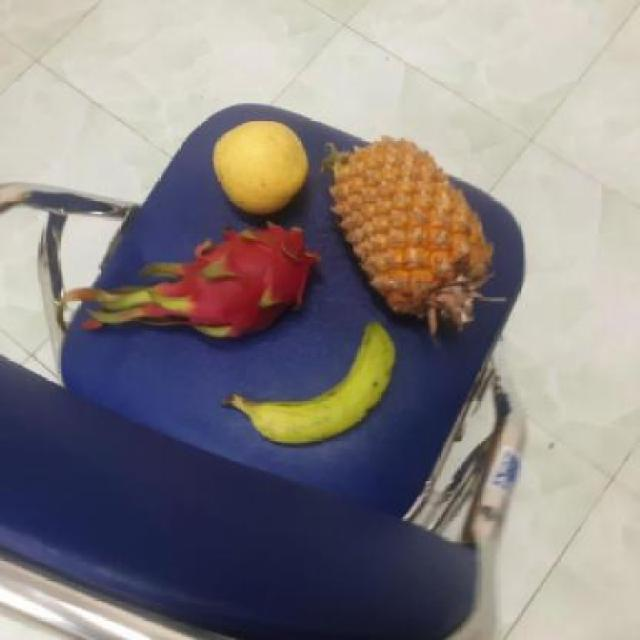banana: (223, 320, 394, 446)
dragon fruit: (161, 222, 313, 340)
pear: (209, 119, 309, 218)
pineapple: (318, 133, 490, 341)
